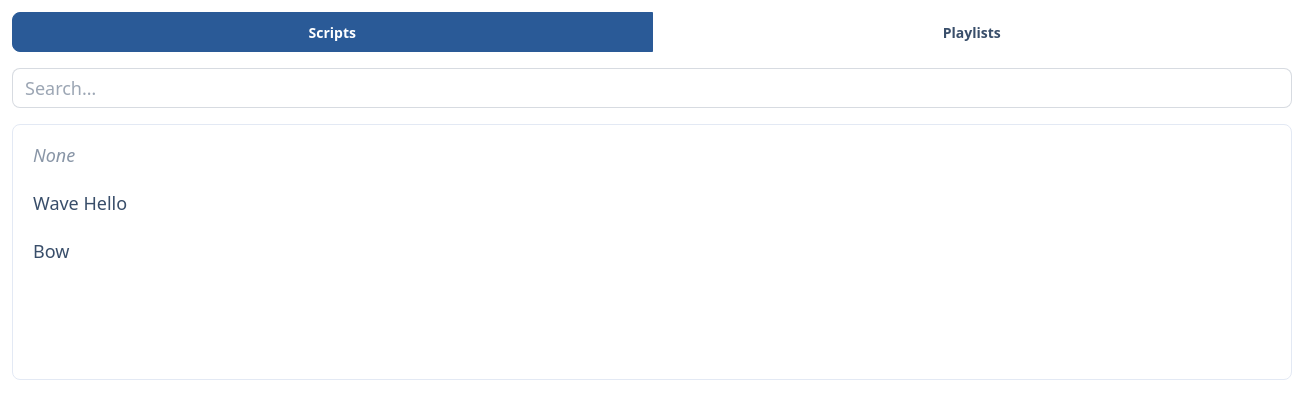
Test: AstrosRemoteButtonEditor › preserves the search query when the user switches tabs
The image size is (1304, 398).
In the field with test id "editor-search": (652, 88) [12,68,1292,108], type "wave"
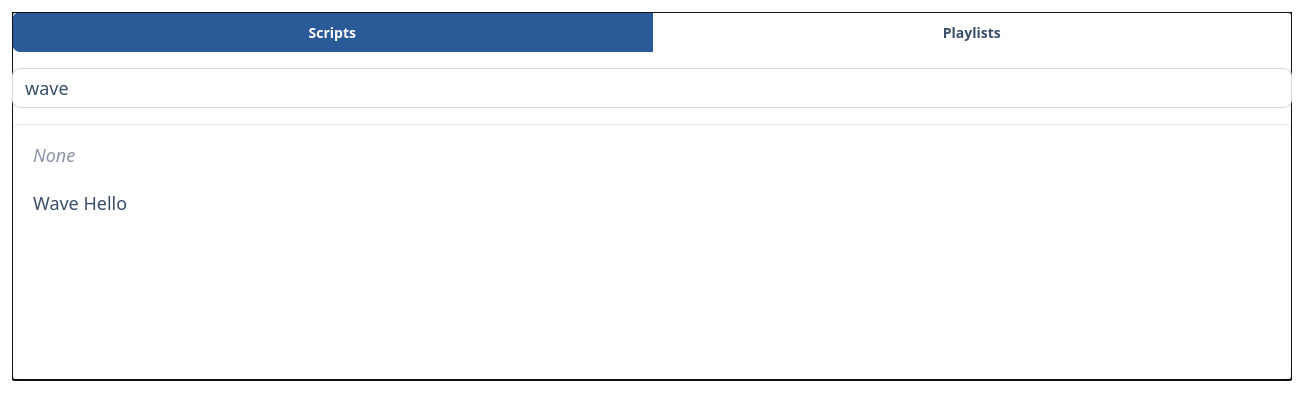
expect the text "Wave Hello" is shown: met, box [21,181,1283,225]
Click the tab with test id "editor-tab-playlist": (972, 32) [652,12,1292,52]
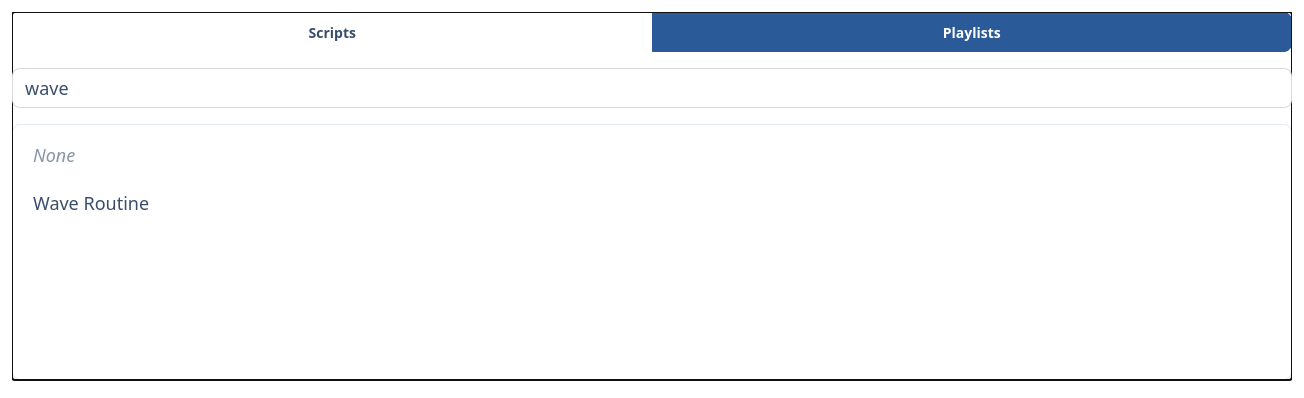
expect the text "Wave Routine" is shown: met, box [21,181,1283,225]
expect the text "Wave Hello" is gone: met
